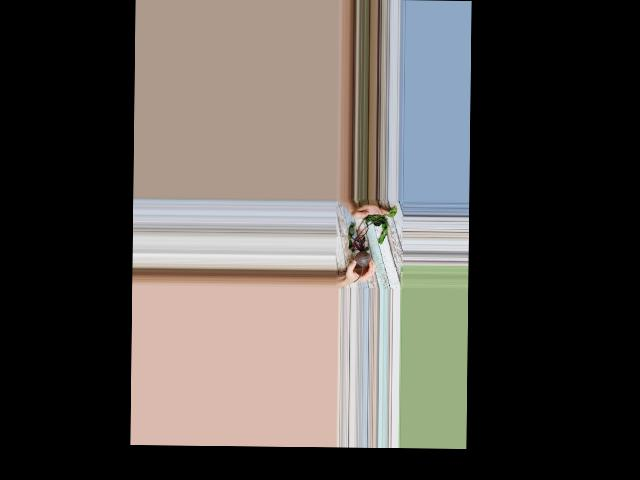beet: (348, 206, 397, 283)
